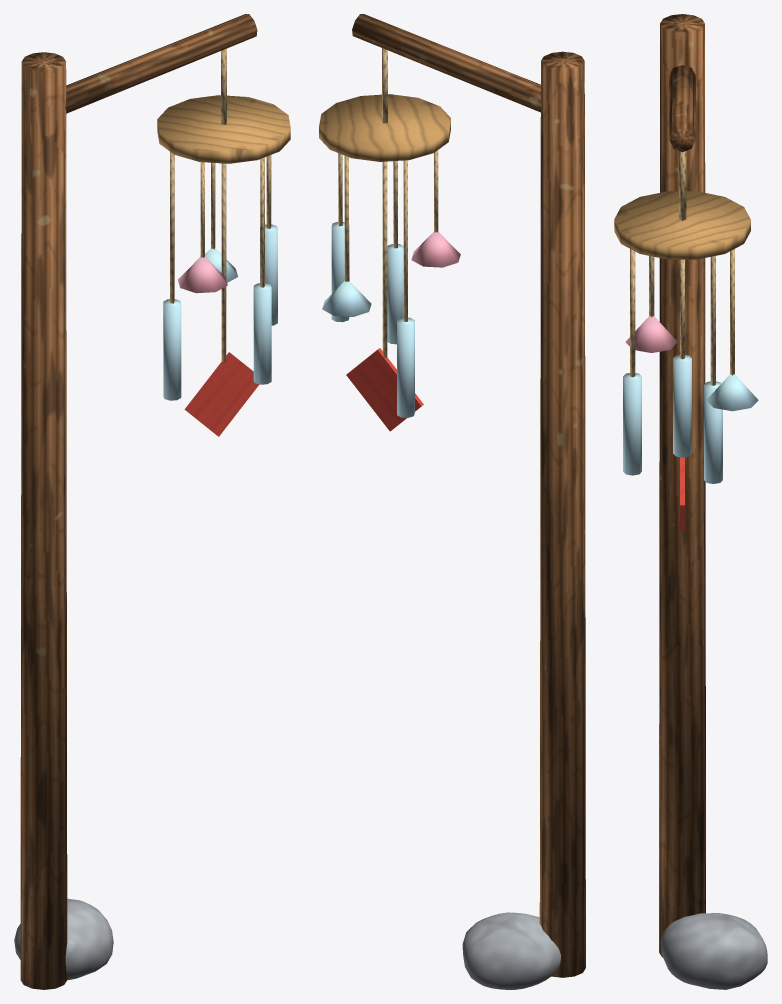
File: wind_chime.glb
The picture shows the model from 3 angles, left to right: view 1: azimuth 30°, elevation 25°; view 2: azimuth 150°, elevation 25°; view 3: azimuth 270°, elevation 25°; orthographic projection. The views are drawn at different scales.
Visible parts, largest first — view 1: WindChime; view 2: WindChime; view 3: WindChime.
Boxes of the visible parts, left/top/right/bottom form: WindChime: left=14, top=14, right=290, bottom=989; WindChime: left=319, top=14, right=585, bottom=989; WindChime: left=614, top=14, right=767, bottom=989.
Size of the model in its own units: 0.5717 by 1.98 by 0.2923.
Materials: 1 (1 with a texture image).
